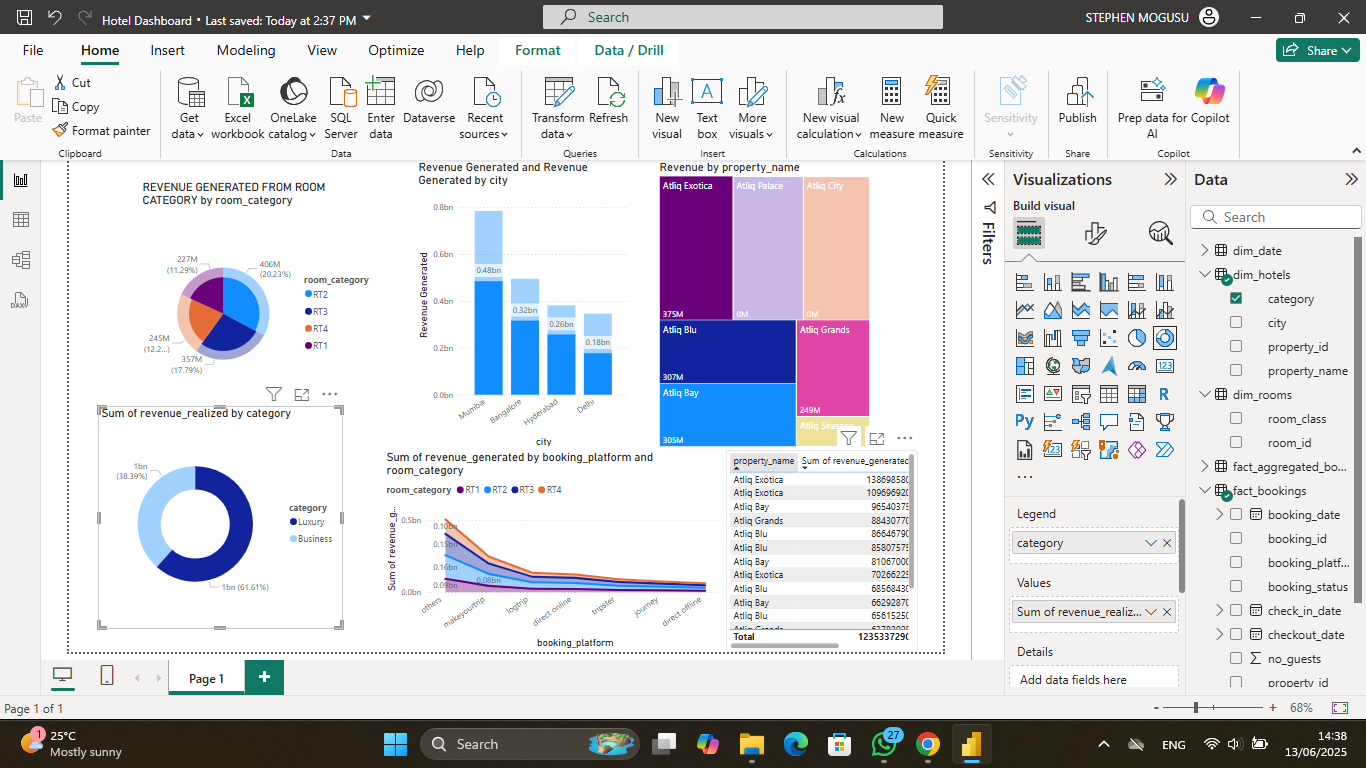

This screenshot's page, from the dashboard's own definition file:
{"tool":"powerbi","page":{"name":"Page 1","canvas":[1280,720],"ordinal":0},"visuals":[{"type":"pieChart","fields":{"Y":["Sum(fact_bookings.revenue_generated)"],"Category":["fact_bookings.room_category"]},"box":[102.8,29.8,357.6,353.2],"z":0},{"type":"lineStackedColumnComboChart","fields":{"Category":["dim_hotels.city"],"Y":["Sum(fact_bookings.revenue_generated)","Sum(fact_bookings.revenue_generated)"]},"box":[506.3,0,316.1,424.4],"z":1000},{"type":"treemap","fields":{"Group":["dim_hotels.property_name"],"Values":["Sum(fact_bookings.revenue_generated)"]},"box":[859,0,317.6,424.4],"z":2000},{"type":"donutChart","fields":{"Y":["Sum(fact_bookings.revenue_realized)"],"Category":["dim_hotels.category"]},"box":[42.4,360,358.5,326.3],"z":3000},{"type":"stackedAreaChart","fields":{"Category":["fact_bookings.booking_platform"],"Y":["Sum(fact_bookings.revenue_generated)"],"Series":["fact_bookings.room_category"]},"box":[459.5,424.4,502,295.6],"z":3001},{"type":"tableEx","fields":{"Values":["dim_hotels.property_name","Sum(fact_bookings.revenue_generated)","dim_hotels.property_id","fact_bookings.property_id"]},"box":[961.5,424.4,281,295.6],"z":3002}]}

Visuals, with their boxes on the page's 1280x720 design canvas (x1, y1, x2, y2). These are canvas units, not pixel positions in the 1366x768 screenshot, which may show the page scaled, cropped or inside an application window:
pieChart - Sum(fact_bookings.revenue_generated) x fact_bookings.room_category: Rect(103, 30, 460, 383)
lineStackedColumnComboChart - dim_hotels.city x Sum(fact_bookings.revenue_generated): Rect(506, 0, 822, 424)
treemap - dim_hotels.property_name x Sum(fact_bookings.revenue_generated): Rect(859, 0, 1177, 424)
donutChart - Sum(fact_bookings.revenue_realized) x dim_hotels.category: Rect(42, 360, 401, 686)
stackedAreaChart - fact_bookings.booking_platform x Sum(fact_bookings.revenue_generated): Rect(460, 424, 962, 720)
tableEx - dim_hotels.property_name x Sum(fact_bookings.revenue_generated): Rect(962, 424, 1242, 720)
